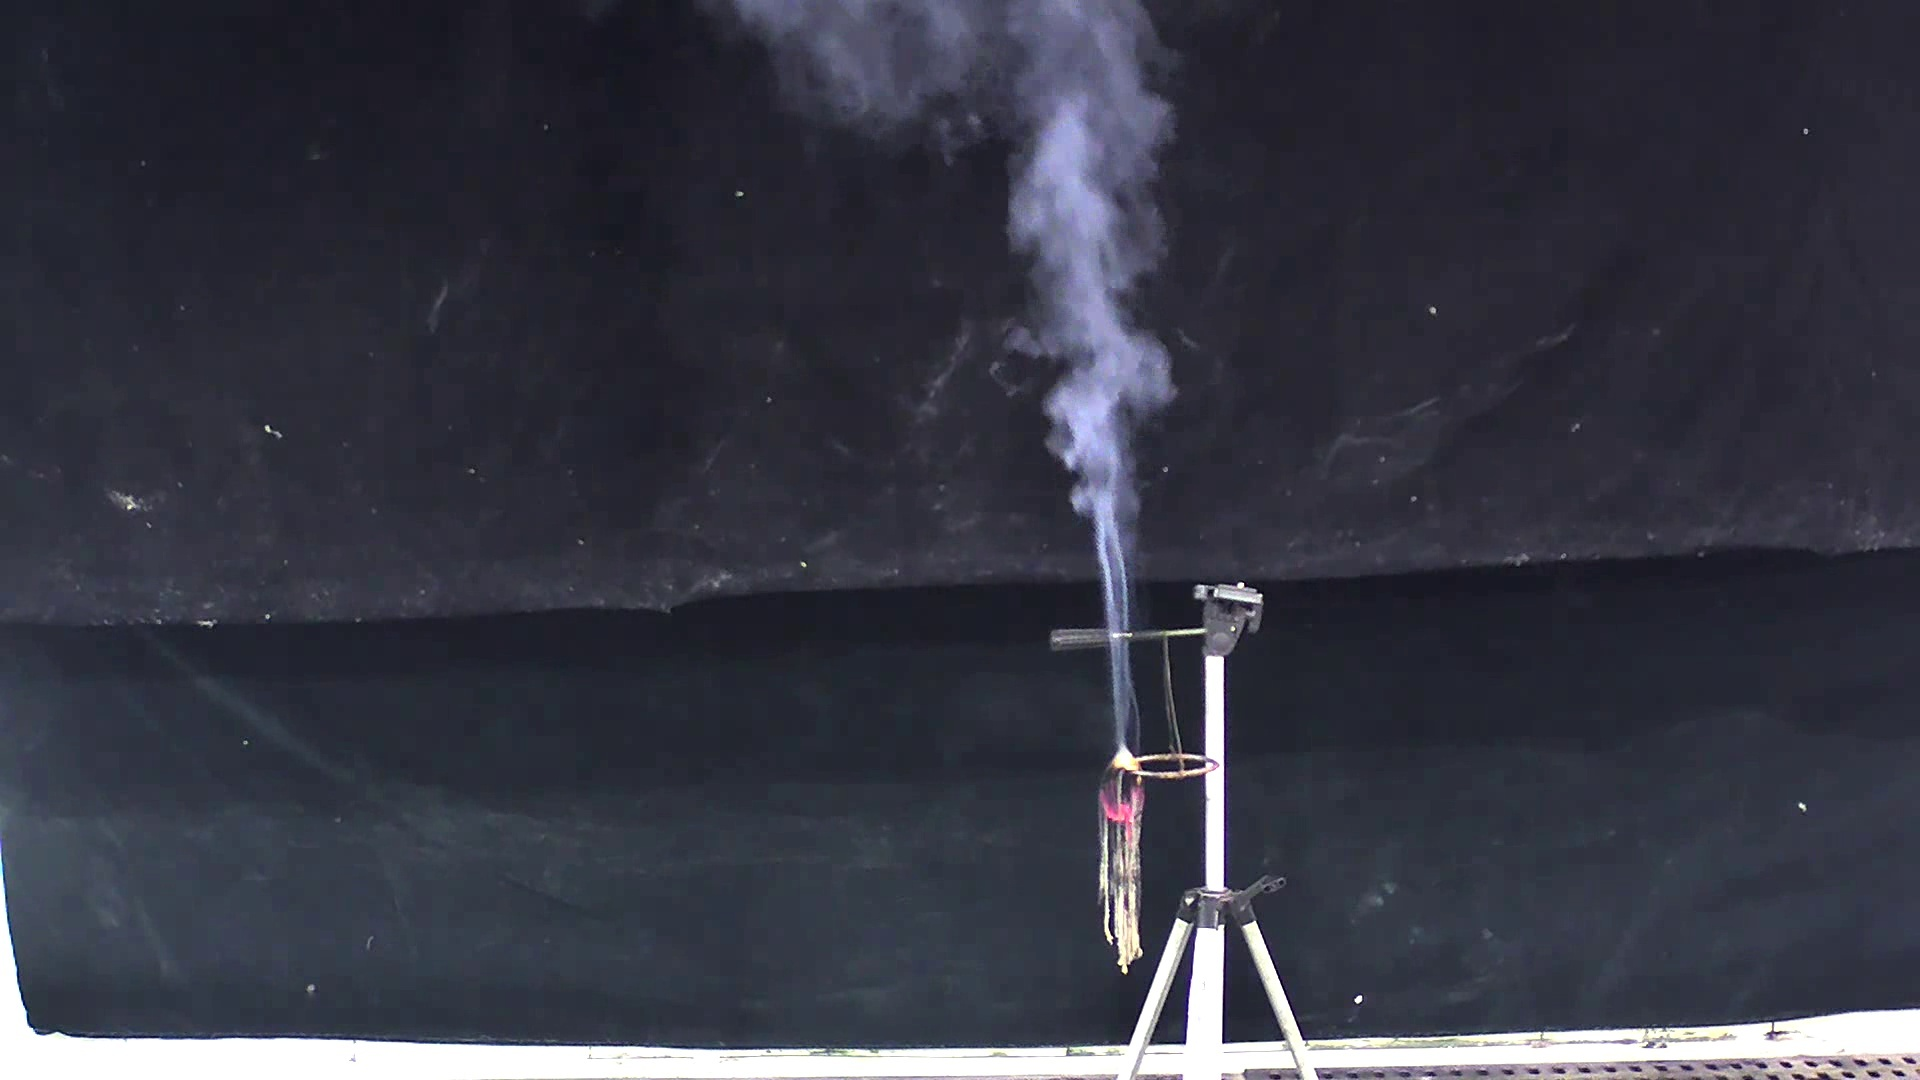smoke: (789, 13, 1192, 756)
